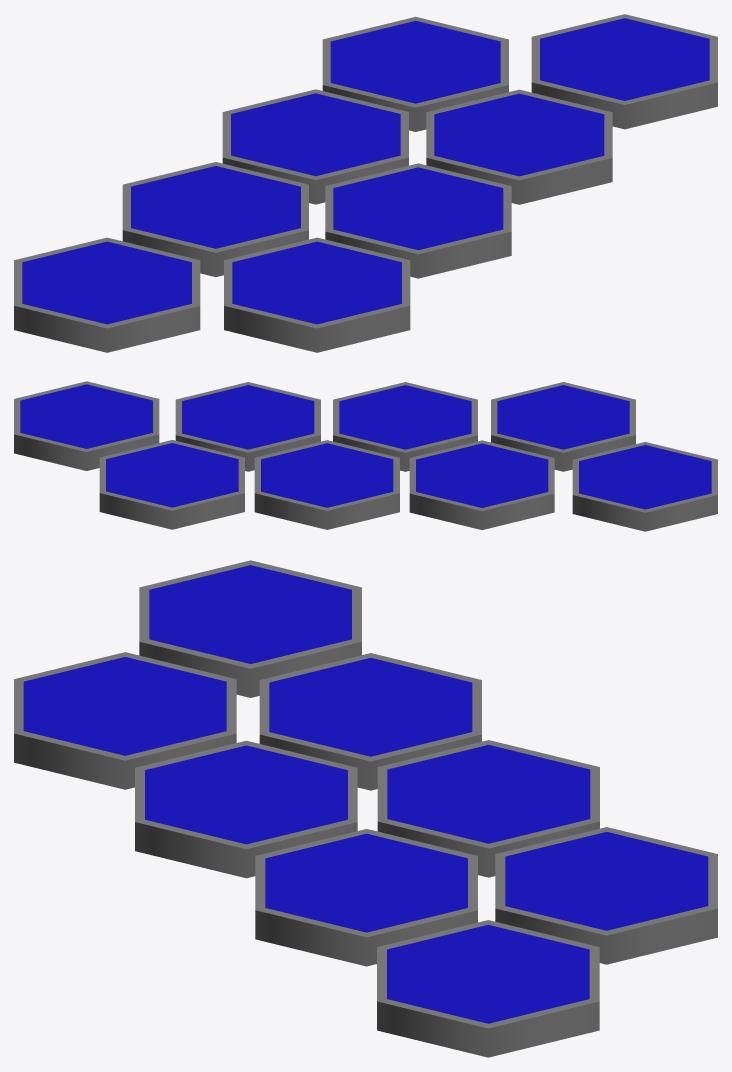
File: ScaleGlow.fbx
3 renders of one model, top to bottom at view 1: azimuth 30°, elevation 25°; view 2: azimuth 150°, elevation 25°; view 3: azimuth 270°, elevation 25°, orthographic. The views are drawn at different scales.
Visible parts, largest first — view 1: GlowScale, Cylinder010; view 2: GlowScale, Cylinder010; view 3: GlowScale, Cylinder010.
Part boxes in pixels (x1=…): GlowScale: x1=22, y1=18, x2=709, y2=324; Cylinder010: x1=14, y1=14, x2=717, y2=352; GlowScale: x1=20, y1=384, x2=711, y2=509; Cylinder010: x1=14, y1=381, x2=717, y2=531; GlowScale: x1=23, y1=565, x2=708, y2=1023; Cylinder010: x1=14, y1=560, x2=717, y2=1057.
Bounding box in the file's own units: 17.25 × 0.5 × 10.96.
